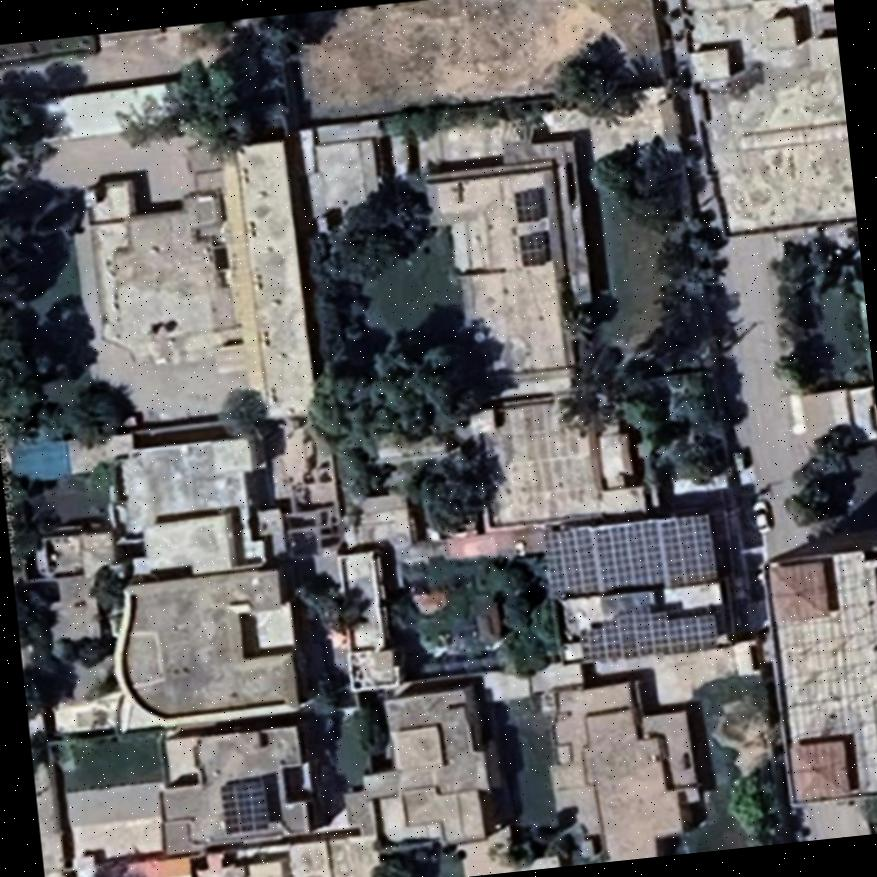Solarpanel: (547, 516, 717, 596), (581, 615, 717, 660), (222, 777, 270, 834), (521, 232, 547, 267), (515, 192, 539, 221)
